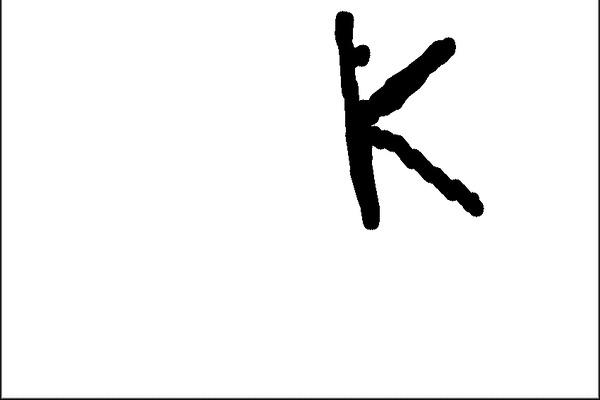K: (324, 2, 490, 236)
